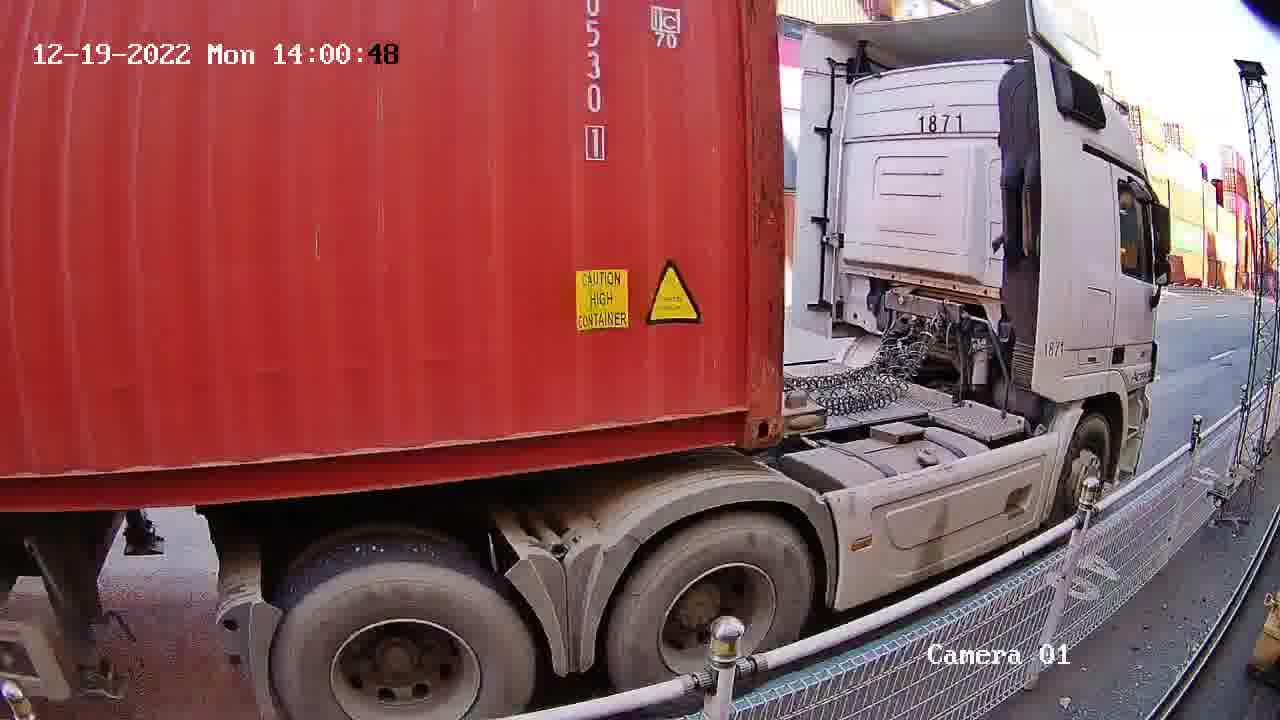Cone: (786, 386, 825, 437)
Hole_R: (704, 377, 785, 449)
Tire: (275, 563, 531, 716), (614, 518, 813, 687)
